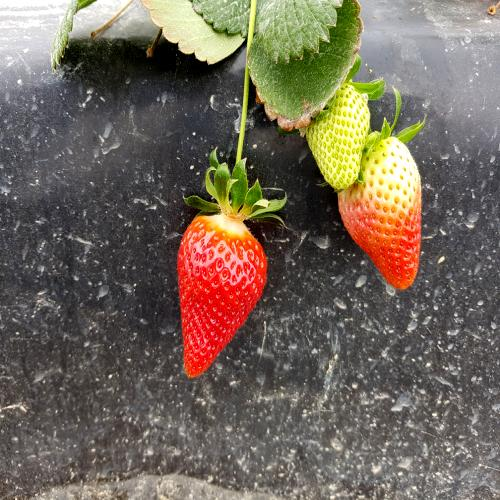partially-ripe: (339, 132, 436, 302)
ripe: (173, 206, 273, 390)
